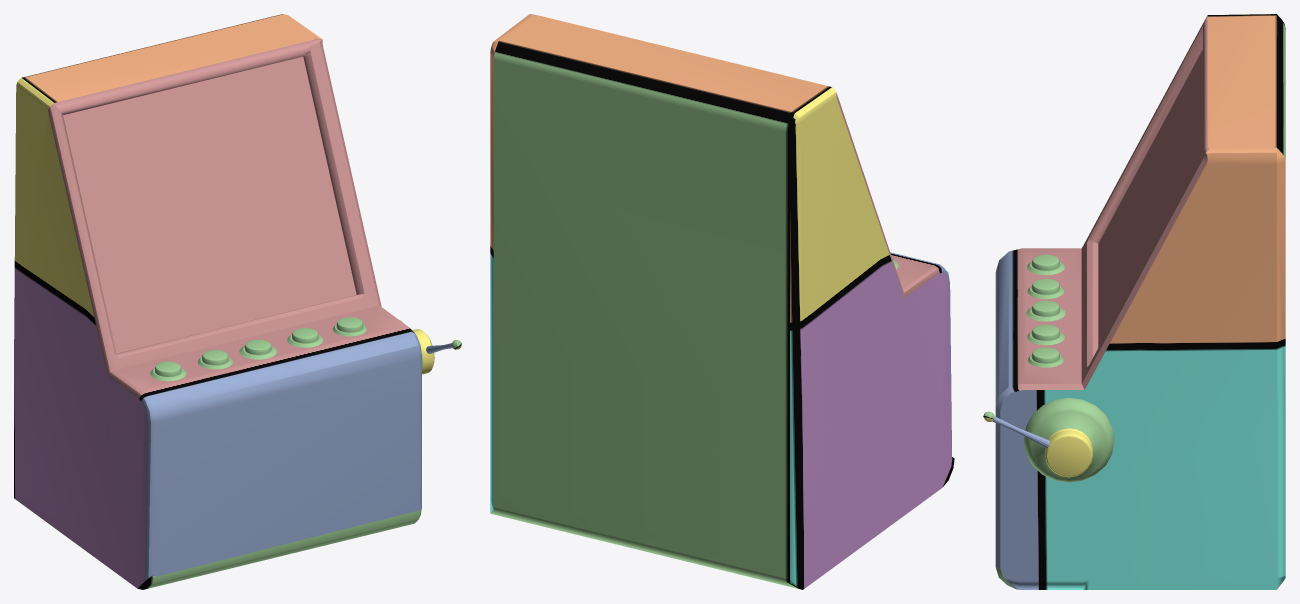
Rendered from PokieMachine03.fbx.
3 views of the same model, side by side, from view 1: azimuth 30°, elevation 25°; view 2: azimuth 150°, elevation 25°; view 3: azimuth 270°, elevation 25° (orthographic). The views are drawn at different scales.
Visible parts, largest first — view 1: PokieMachine_Base; view 2: PokieMachine_Base; view 3: PokieMachine_Base.
Part boxes in pixels (x1=…): PokieMachine_Base: x1=14, y1=14, x2=461, y2=589; PokieMachine_Base: x1=490, y1=14, x2=954, y2=589; PokieMachine_Base: x1=983, y1=14, x2=1285, y2=589.
Bounding box in the file's own units: 144 × 185 × 116.
Materials: 1 (1 with a texture image).
